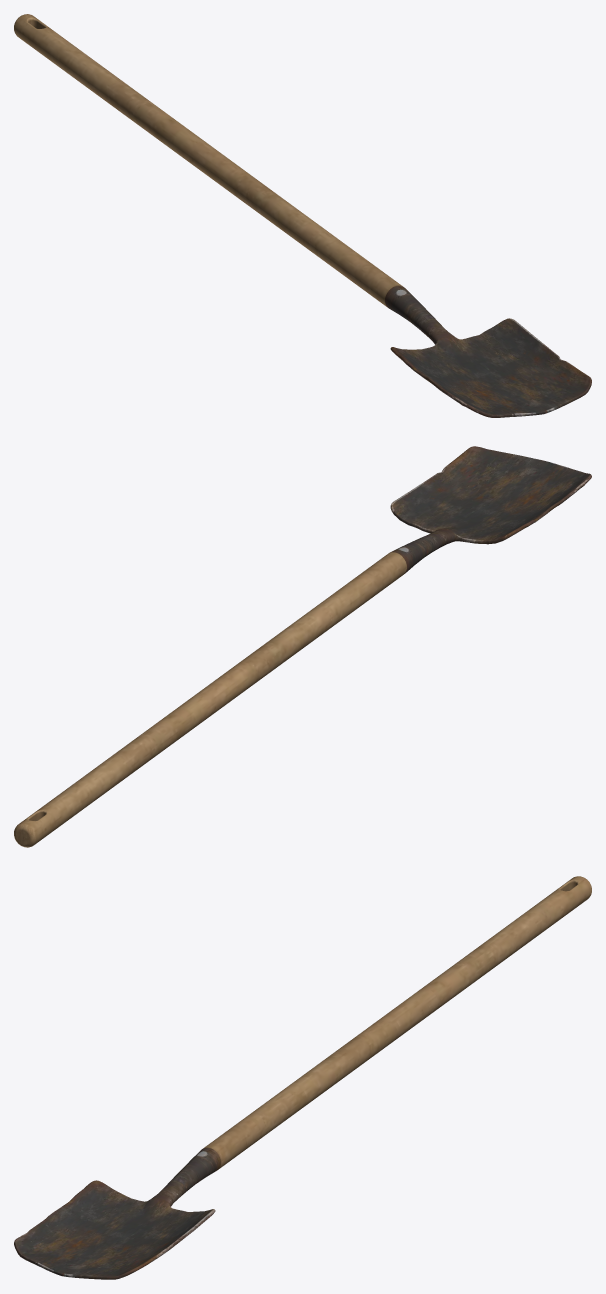
Rendered from scoop.glb.
3 renders of one model, top to bottom at view 1: azimuth 30°, elevation 25°; view 2: azimuth 150°, elevation 25°; view 3: azimuth 330°, elevation 25°, orthographic.
Visible parts, largest first — view 1: Shovel_Shovel_0; view 2: Shovel_Shovel_0; view 3: Shovel_Shovel_0.
Boxes of the visible parts, bbox=[...] form: Shovel_Shovel_0: bbox=[14, 14, 591, 417]; Shovel_Shovel_0: bbox=[14, 446, 591, 847]; Shovel_Shovel_0: bbox=[14, 876, 591, 1279].
Bounding box in the file's own units: 0.1713 × 0.036 × 1.25.
1 material, 1 textured.
